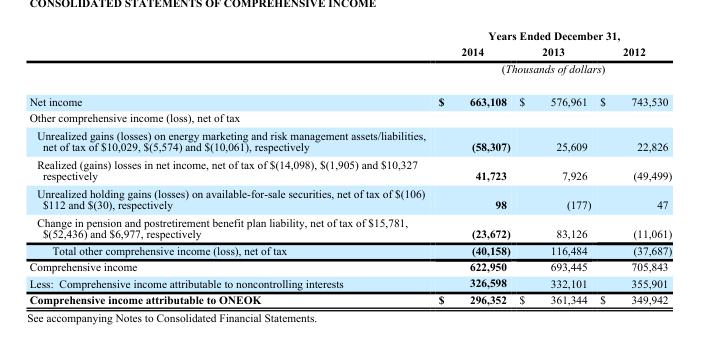table: (28, 28, 671, 305)
table column: (28, 28, 431, 305), (431, 28, 514, 305), (514, 28, 594, 305), (594, 28, 671, 305)
table column header: (28, 28, 671, 84)
table projected row header: (28, 109, 671, 126)
table row: (28, 126, 671, 155), (28, 155, 671, 184), (28, 184, 671, 213), (28, 213, 671, 241), (28, 59, 671, 84), (28, 84, 671, 109), (28, 109, 671, 126), (28, 241, 671, 258), (28, 43, 671, 59), (28, 258, 671, 274), (28, 274, 671, 290), (28, 28, 671, 43), (28, 290, 671, 305)
table spanning cell: (431, 59, 671, 84), (431, 28, 671, 43)
